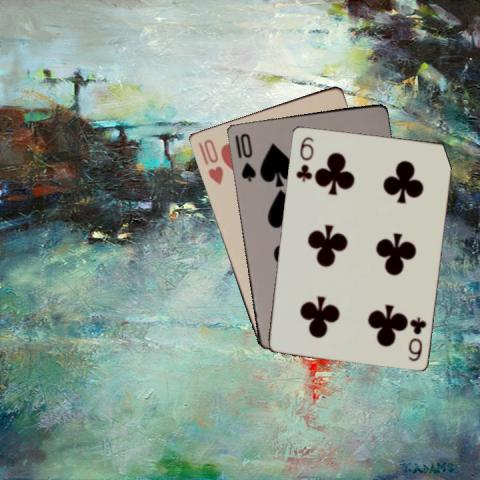10h: (194, 136, 224, 186)
10s: (237, 130, 257, 182)
6c: (292, 133, 314, 183), (405, 314, 427, 363)
